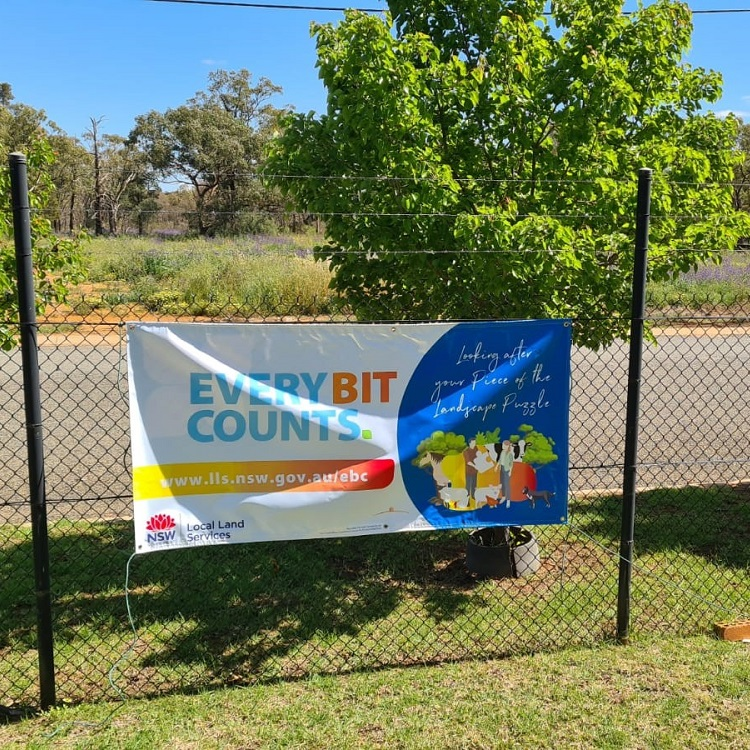vinyl banner: (96, 306, 598, 564)
